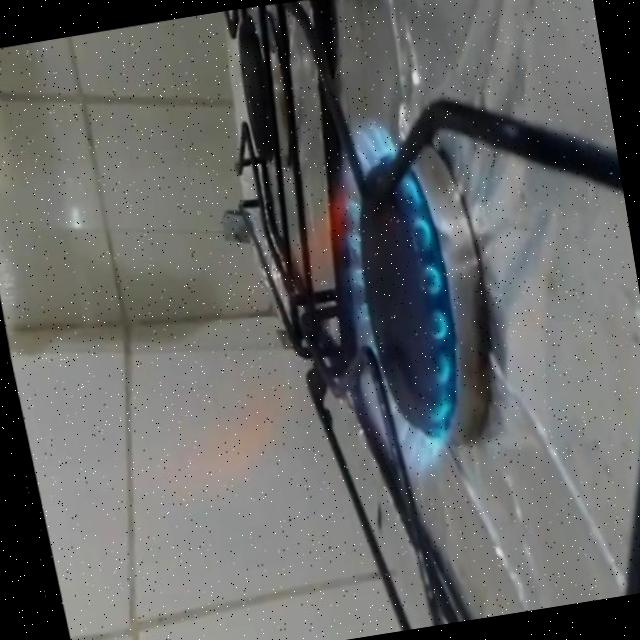fire: (94, 97, 490, 528)
